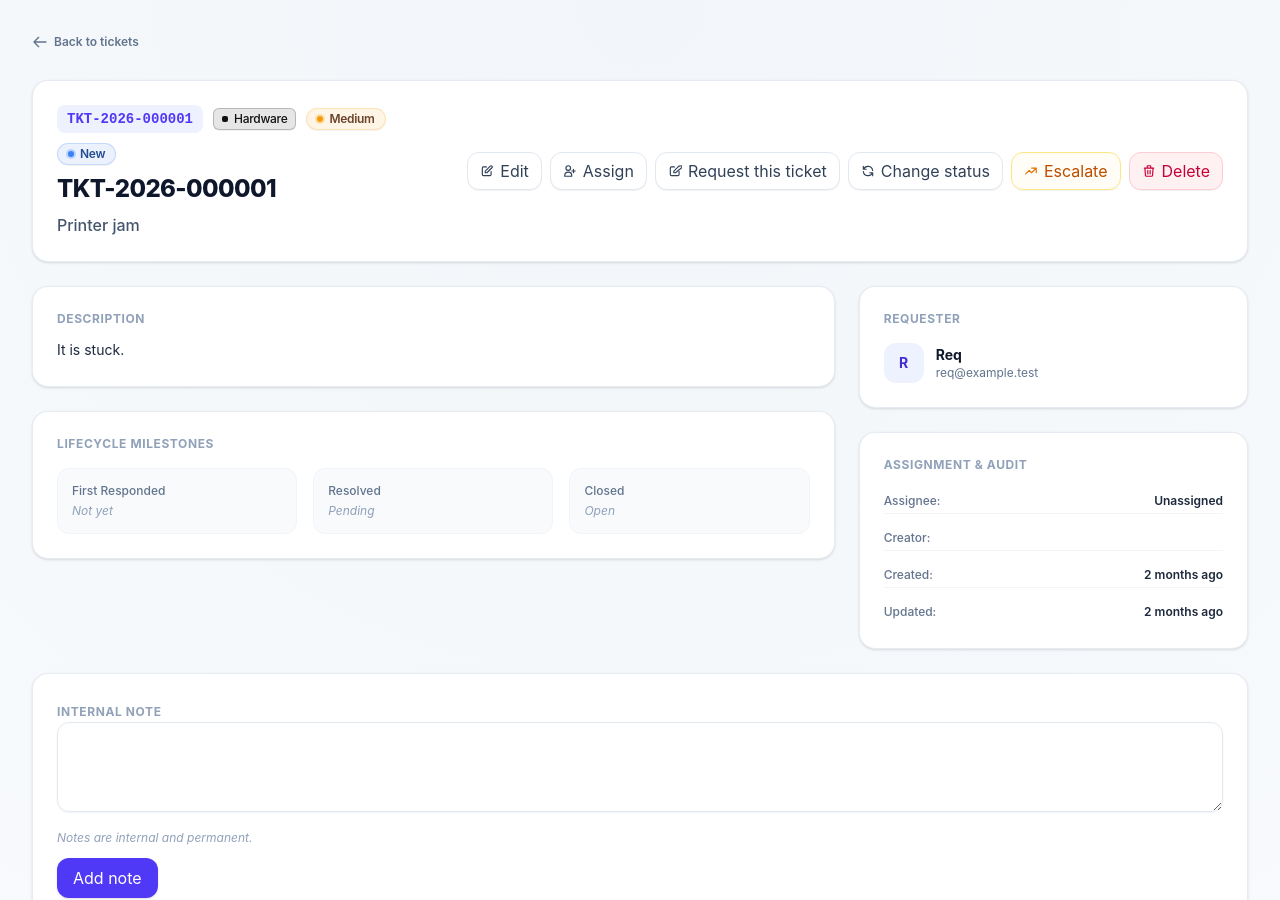
Scenario: TicketDetailView assignment requests › the request-assignment dialog is absent on first render and opens on click
Click the button with test id "action-request-assignment".
click(747, 171)  # box [655,152,840,190]
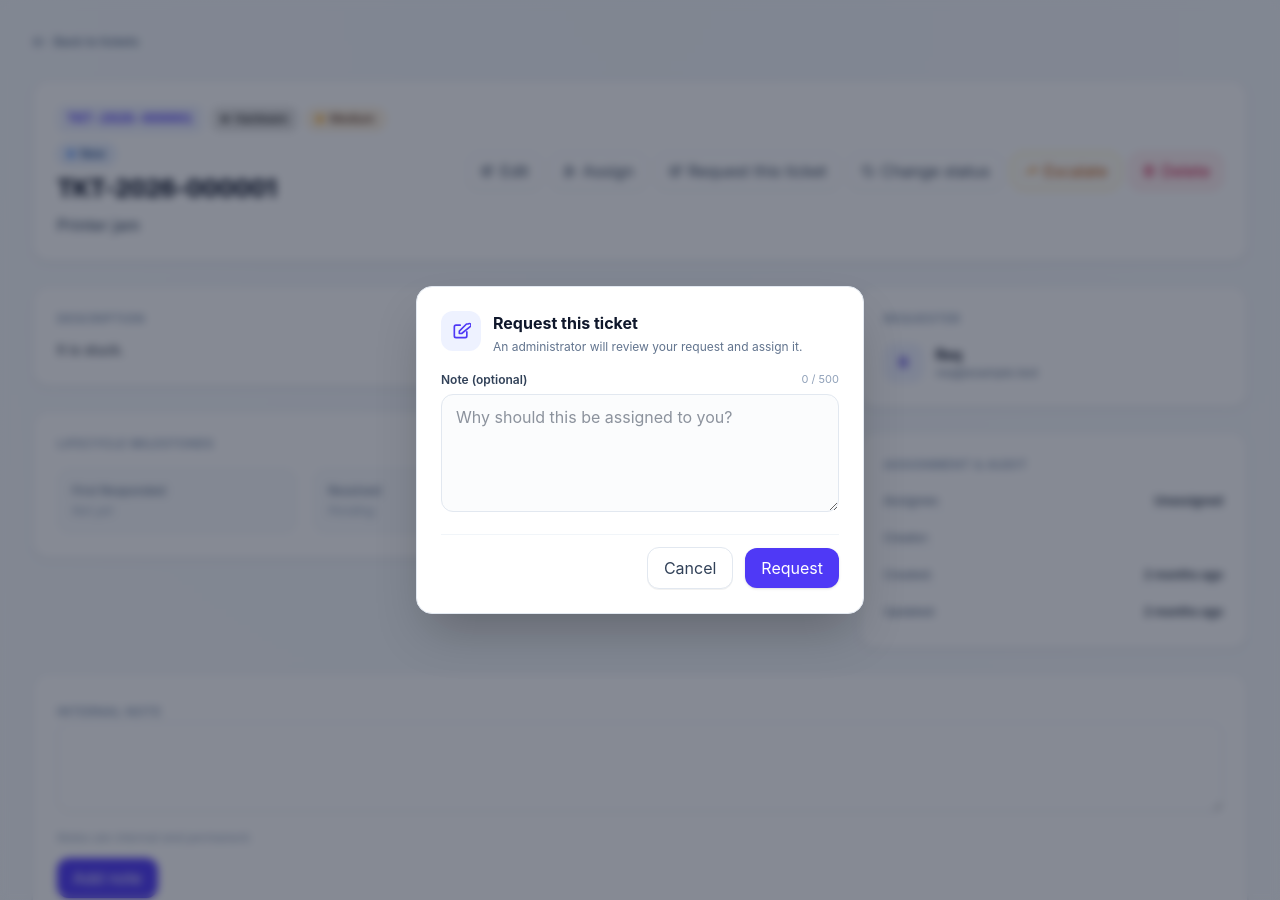
Expected: the element with test id "ticket-request-assignment-dialog" is shown
